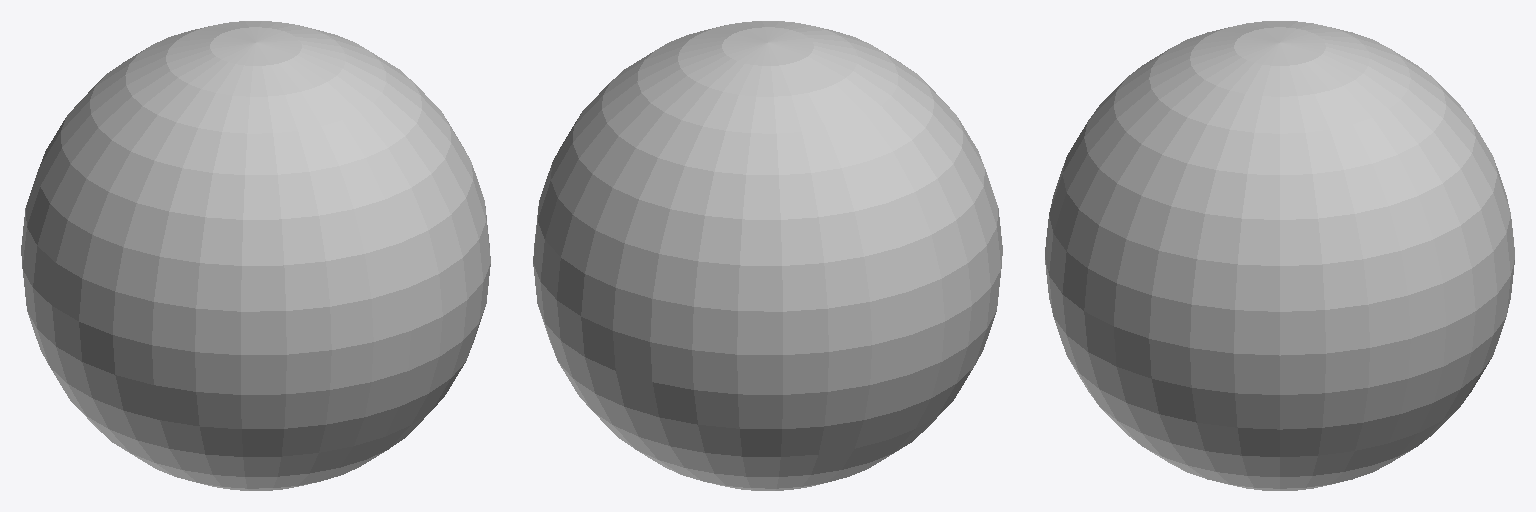
The model's file is skydome.obj.
3 renders of one model, left to right at view 1: azimuth 30°, elevation 25°; view 2: azimuth 150°, elevation 25°; view 3: azimuth 270°, elevation 25°, orthographic.
Visible parts, largest first — view 1: 球; view 2: 球; view 3: 球.
Part boxes in pixels (x1,y1,x2,y2): 球: (21,21,490,490); 球: (533,21,1002,490); 球: (1045,21,1514,490).
Size of the model in its own units: 405 by 405 by 405.